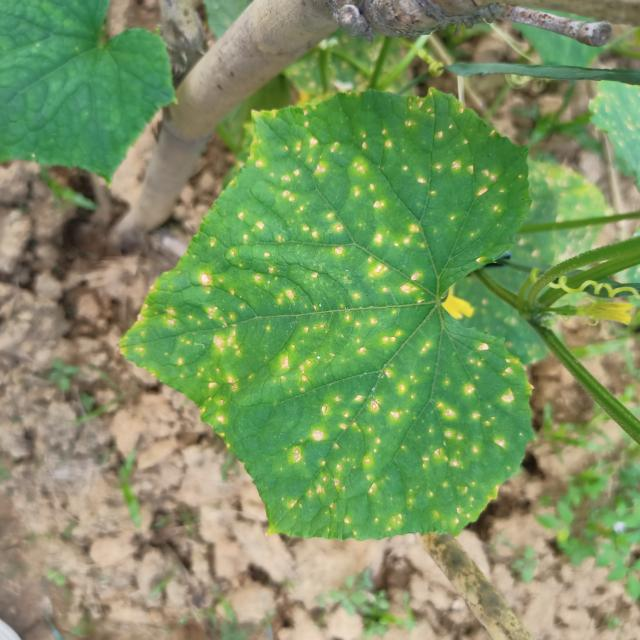disease_cucumber: (158, 110, 532, 526)
